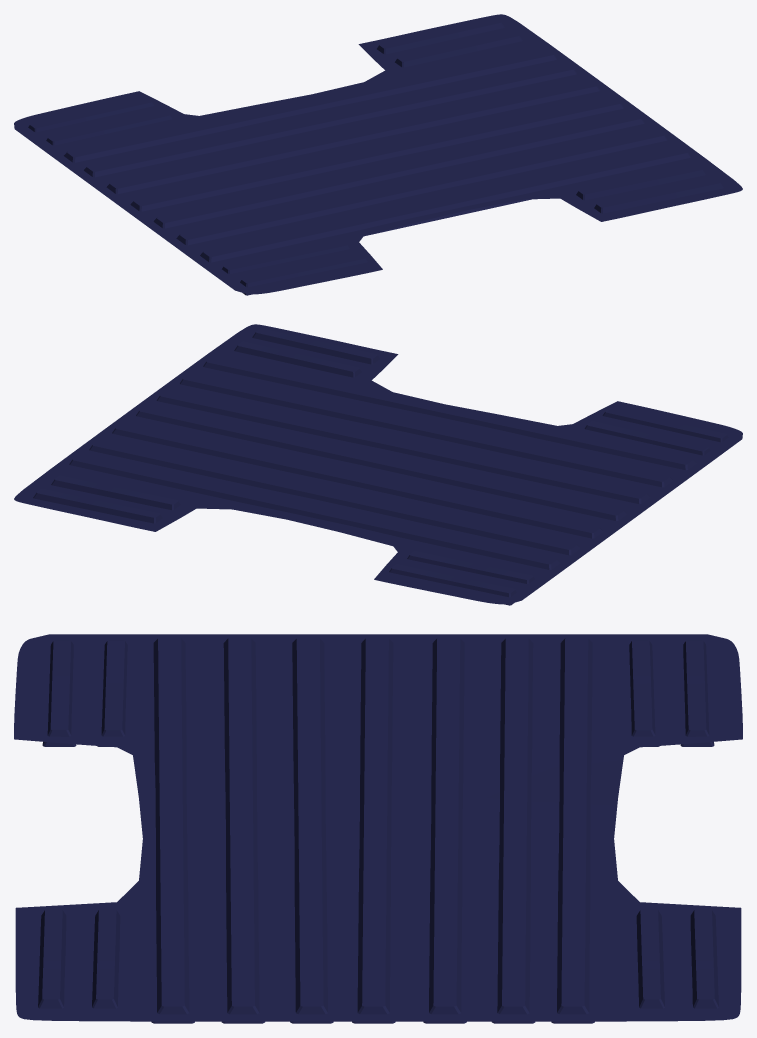
The picture shows the model from 3 angles, top to bottom: view 1: azimuth 30°, elevation 25°; view 2: azimuth 150°, elevation 25°; view 3: azimuth 270°, elevation 25°; orthographic projection. The views are drawn at different scales.
Parts seen in each view (by area): view 1: U803_3A_505M_C_1_DaS_U803_3A_505M_C, U803_3A_505M_C_1_DaS_U803_3A_505M_C_E; view 2: U803_3A_505M_C_1_DaS_U803_3A_505M_C, U803_3A_505M_C_1_DaS_U803_3A_505M_C_E; view 3: U803_3A_505M_C_1_DaS_U803_3A_505M_C, U803_3A_505M_C_1_DaS_U803_3A_505M_C_E.
Boxes of the visible parts, x1,y1,x2,y2 form: U803_3A_505M_C_1_DaS_U803_3A_505M_C: [14, 14, 742, 295]; U803_3A_505M_C_1_DaS_U803_3A_505M_C_E: [30, 18, 719, 283]; U803_3A_505M_C_1_DaS_U803_3A_505M_C: [14, 324, 742, 605]; U803_3A_505M_C_1_DaS_U803_3A_505M_C_E: [37, 328, 726, 593]; U803_3A_505M_C_1_DaS_U803_3A_505M_C: [14, 634, 742, 1023]; U803_3A_505M_C_1_DaS_U803_3A_505M_C_E: [42, 637, 714, 1006].
Bounding box in the file's own units: 182 × 7.8 × 153.
